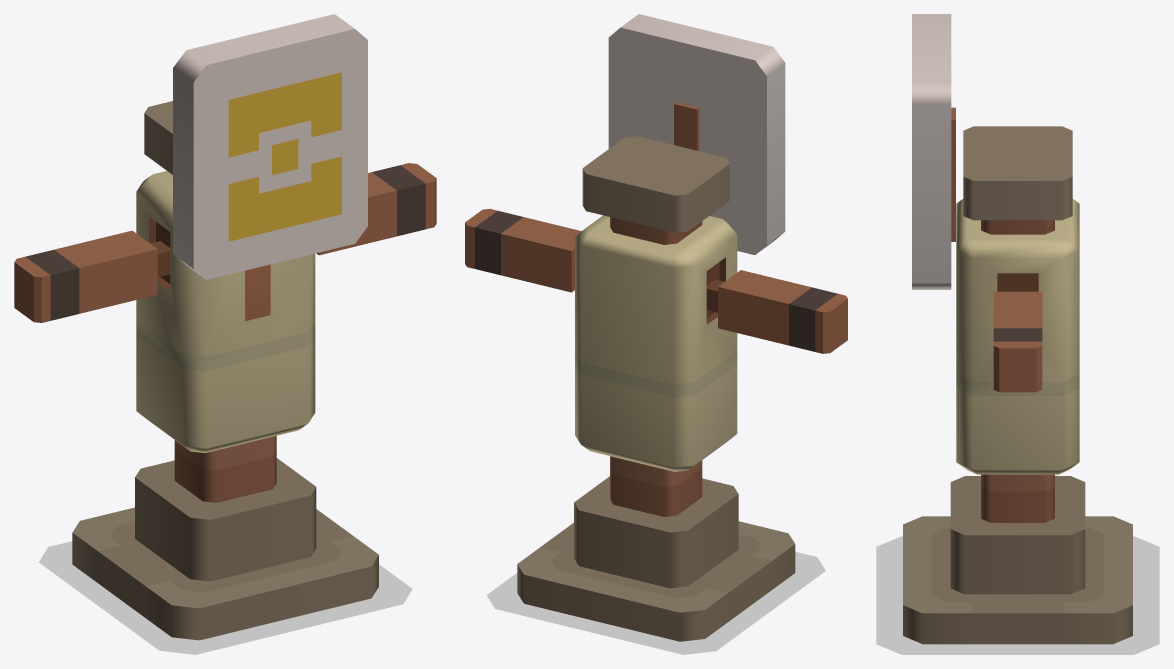
File: GG_makeover_S_training_3.fbx
3 renders of one model, left to right at view 1: azimuth 30°, elevation 25°; view 2: azimuth 150°, elevation 25°; view 3: azimuth 270°, elevation 25°, orthographic. The views are drawn at different scales.
Visible parts, largest first — view 1: model1, model, model3, model4, ground, model7, model2; view 2: model3, model, model1, model2, model4, model7, ground; view 3: model, model3, model1, model2, ground, model7.
Boxes of the visible parts, <box> form: model1: <box>173,14,367,279</box>; model: <box>72,436,378,640</box>; model3: <box>136,171,315,452</box>; model4: <box>14,230,157,322</box>; ground: <box>39,541,412,654</box>; model7: <box>316,163,436,255</box>; model2: <box>144,101,172,174</box>; model3: <box>575,215,737,471</box>; model: <box>517,456,795,641</box>; model1: <box>608,14,785,254</box>; model2: <box>582,136,729,244</box>; model4: <box>718,270,847,353</box>; model7: <box>465,208,581,292</box>; ground: <box>487,551,825,654</box>; model: <box>903,474,1132,644</box>; model3: <box>956,199,1079,474</box>; model1: <box>912,14,955,289</box>; model2: <box>963,126,1072,234</box>; ground: <box>876,536,1159,654</box>; model7: <box>993,291,1042,392</box>.
Size of the model in its own units: 4.38 by 5.91 by 2.78.
